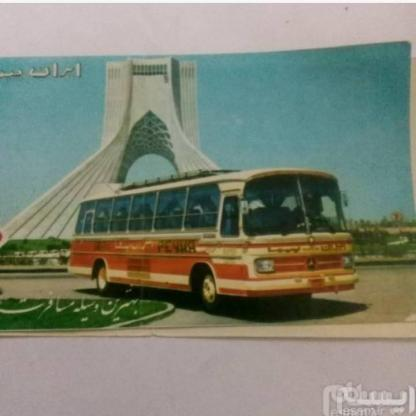Bus: (70, 162, 364, 320)
